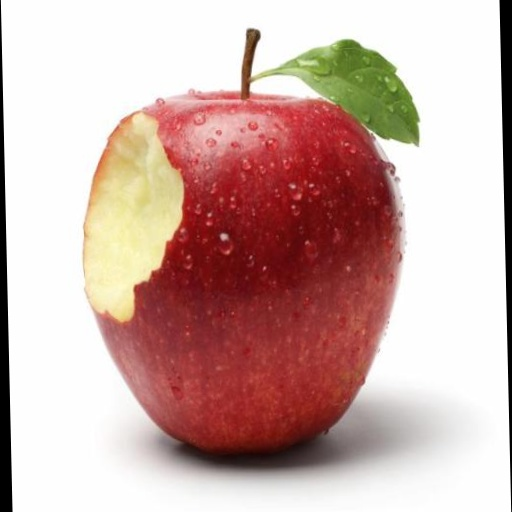fruit: (85, 92, 404, 453)
